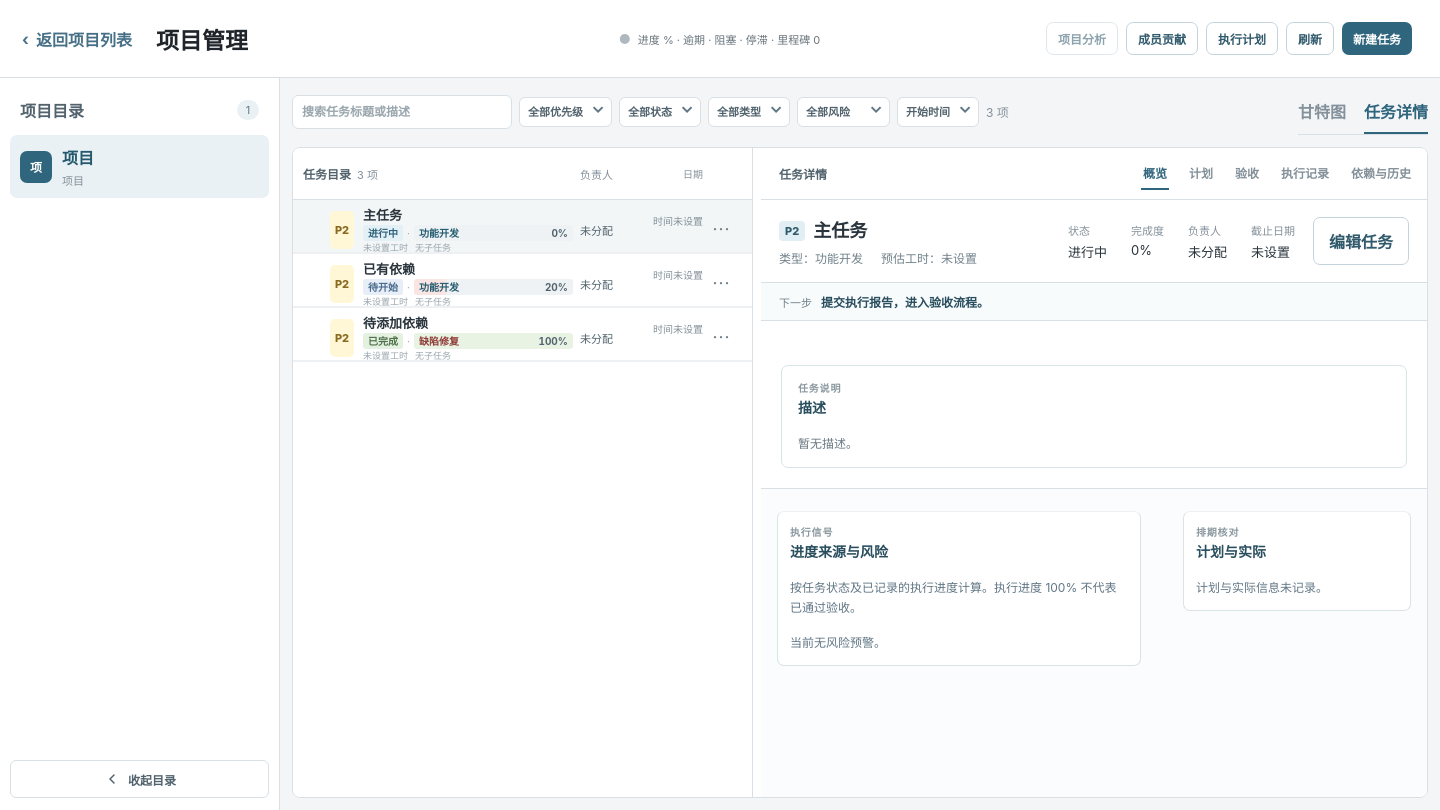
Test: keeps dependency cards passive until the explicit view action and saves from a modal
Expected: the heading "P2 主任务" is shown, [779, 220, 867, 241]
Click the tab "依赖与历史" at (1381,174), box [1349, 157, 1413, 190]
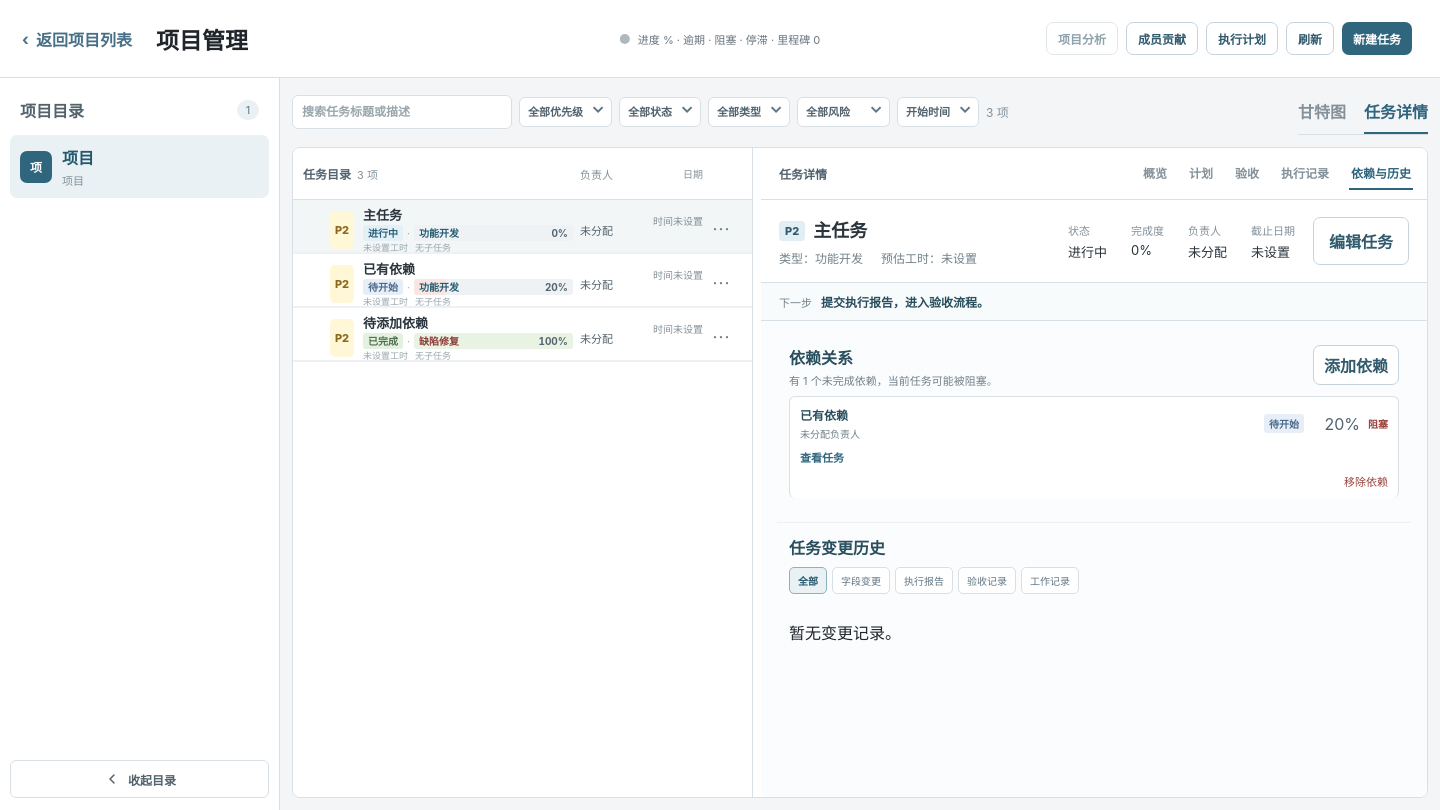
Expected: the text "已有依赖" below "任务目录" is shown, [363, 261, 415, 277]
Expected: the button "保存依赖" is not shown
Click the button "添加依赖" at (1356,365), box [1313, 345, 1399, 385]
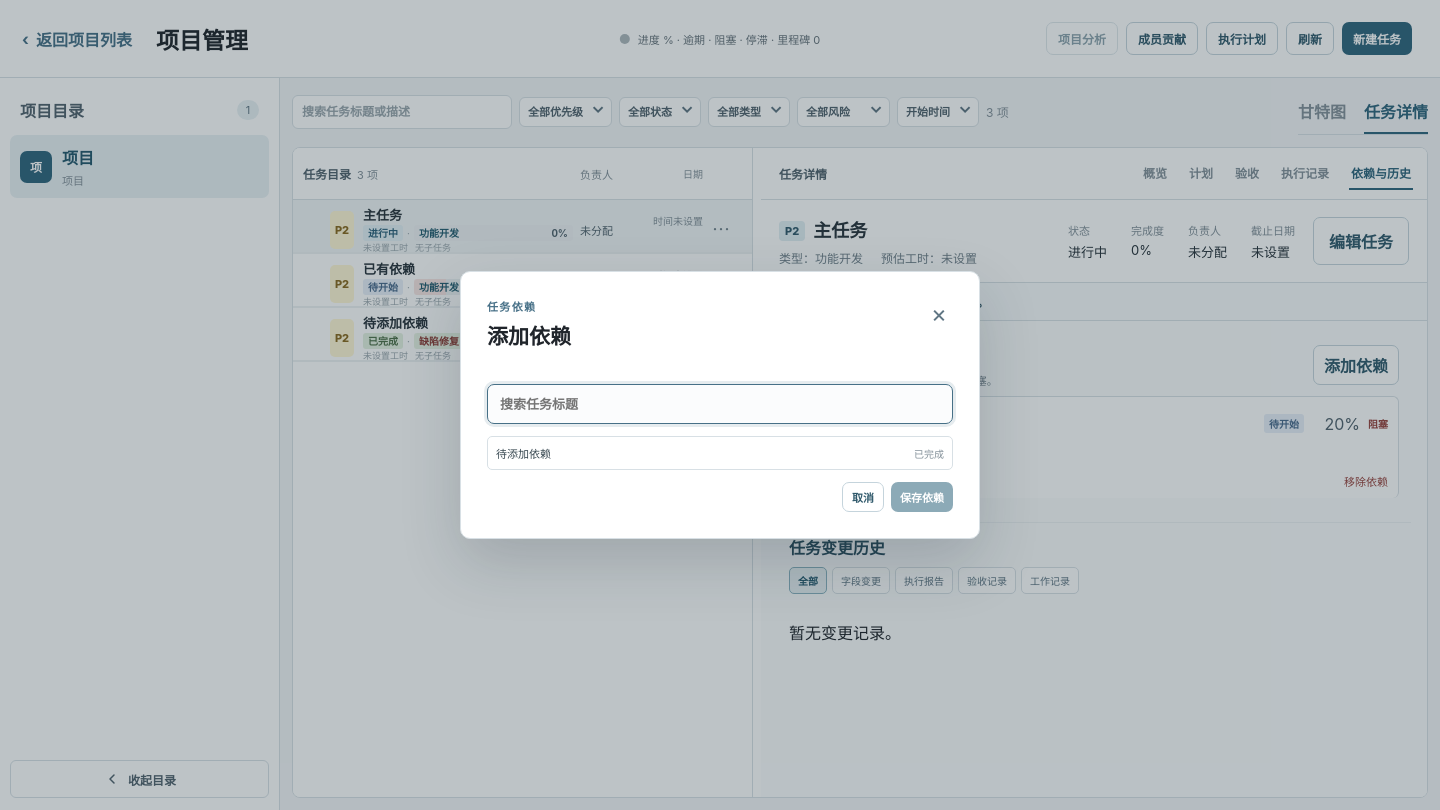
Result: the dialog "添加依赖" is shown at [460, 271, 980, 539]
Click the button "待添加依赖 已完成" at (524,454), box [488, 437, 952, 469]
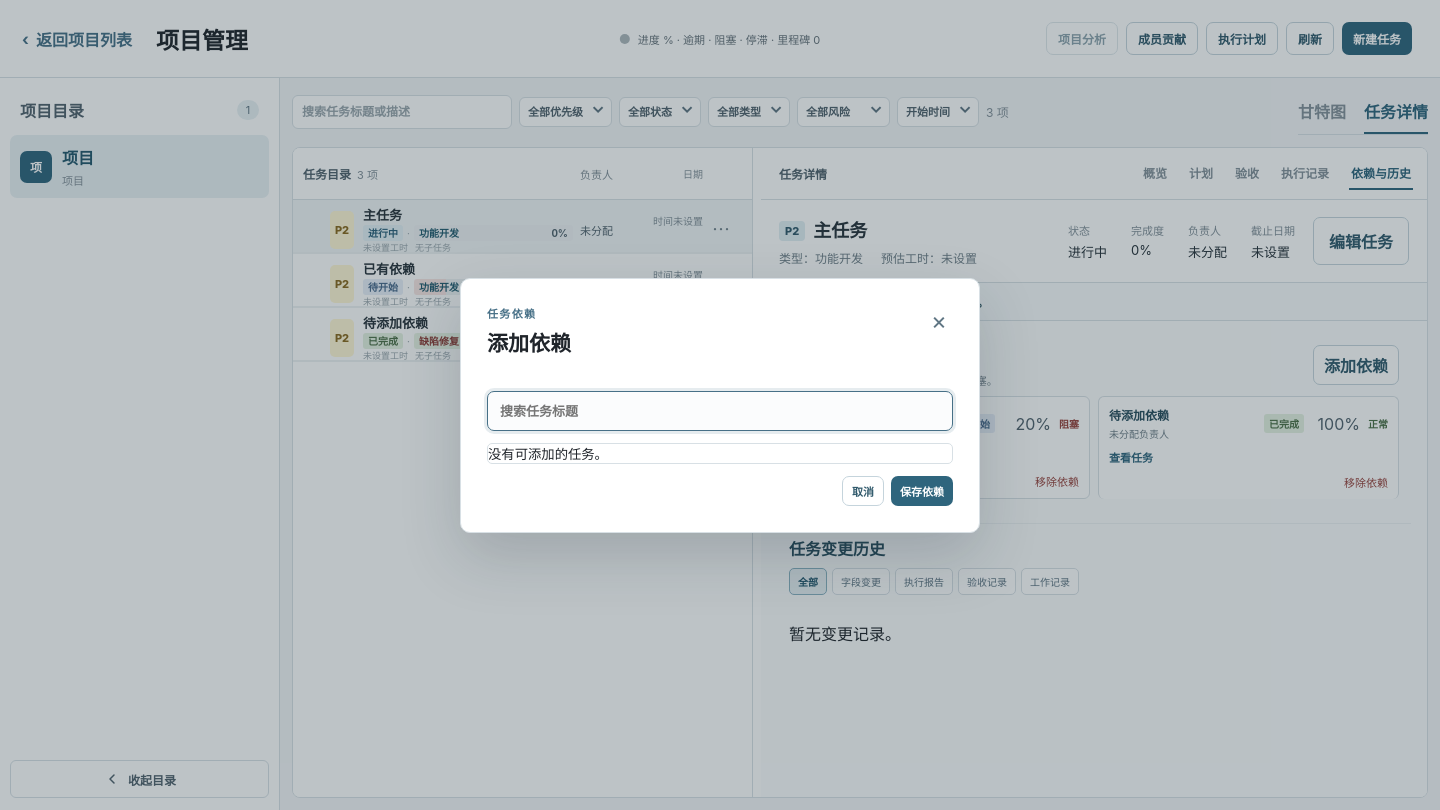
Result: the button "保存依赖" is shown
Click the button "保存依赖" at (922,490), box [891, 476, 953, 506]
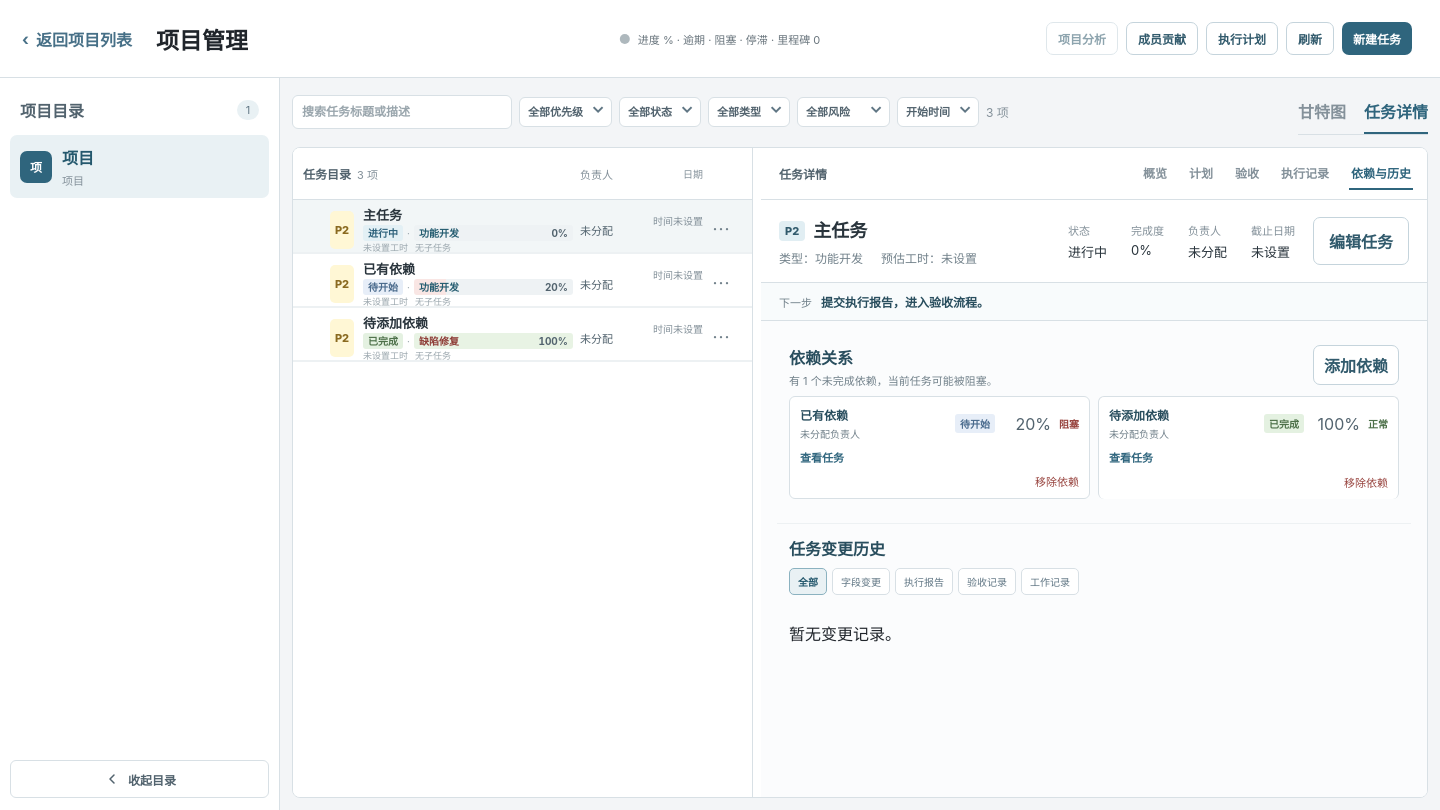
Expected: the text "待添加依赖" below "任务目录" is shown, [363, 315, 428, 331]
Result: the number of buttons "查看任务" is 2
Result: the button "保存依赖" is gone
Click the button "查看任务" below "正常" at (1131,458), box [1109, 450, 1153, 466]
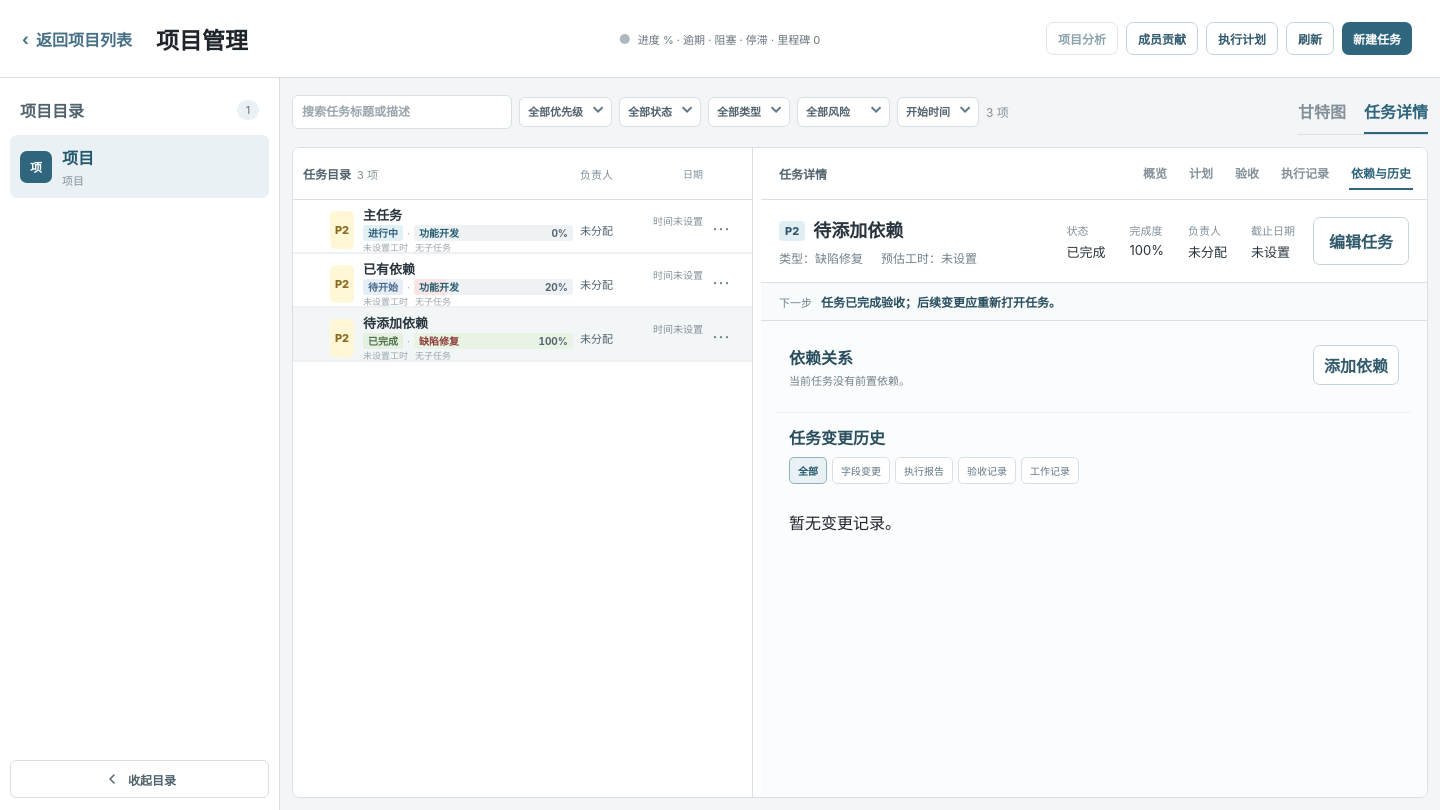
Result: the heading "P2 待添加依赖" is shown at [779, 220, 903, 241]
